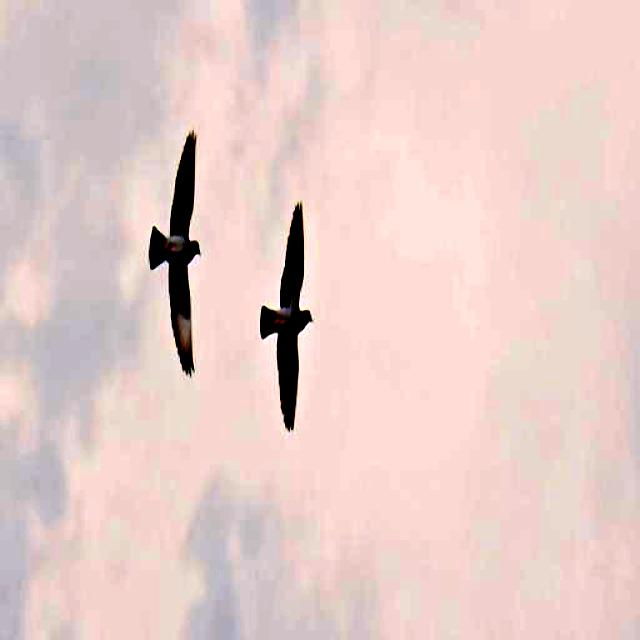airplane: (136, 108, 222, 404), (254, 181, 322, 446)
